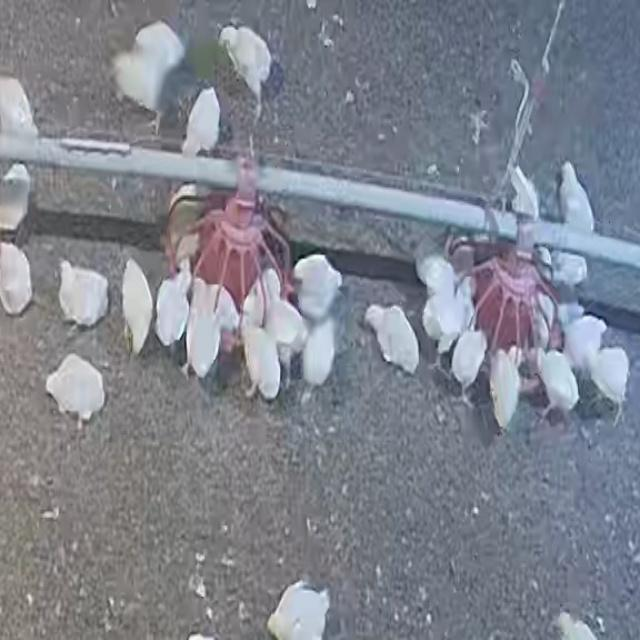chicken: (45, 348, 109, 430), (220, 18, 278, 100), (51, 255, 112, 332), (362, 302, 421, 376), (185, 278, 227, 381), (111, 51, 170, 119), (533, 348, 580, 432), (256, 267, 304, 348), (264, 581, 328, 640), (290, 254, 344, 322), (240, 321, 282, 403), (121, 258, 155, 356), (588, 346, 630, 425), (154, 266, 192, 350), (126, 17, 186, 66), (300, 318, 338, 393), (557, 161, 596, 234), (181, 88, 221, 159), (488, 347, 521, 432), (562, 314, 608, 374), (536, 240, 596, 286), (449, 328, 488, 396)
